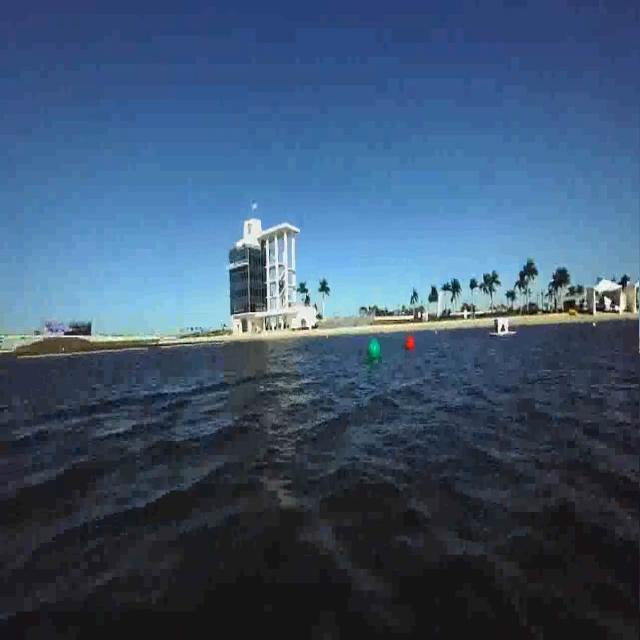green-buoy: (366, 339, 380, 362)
red-column-buoy: (408, 337, 417, 353)
